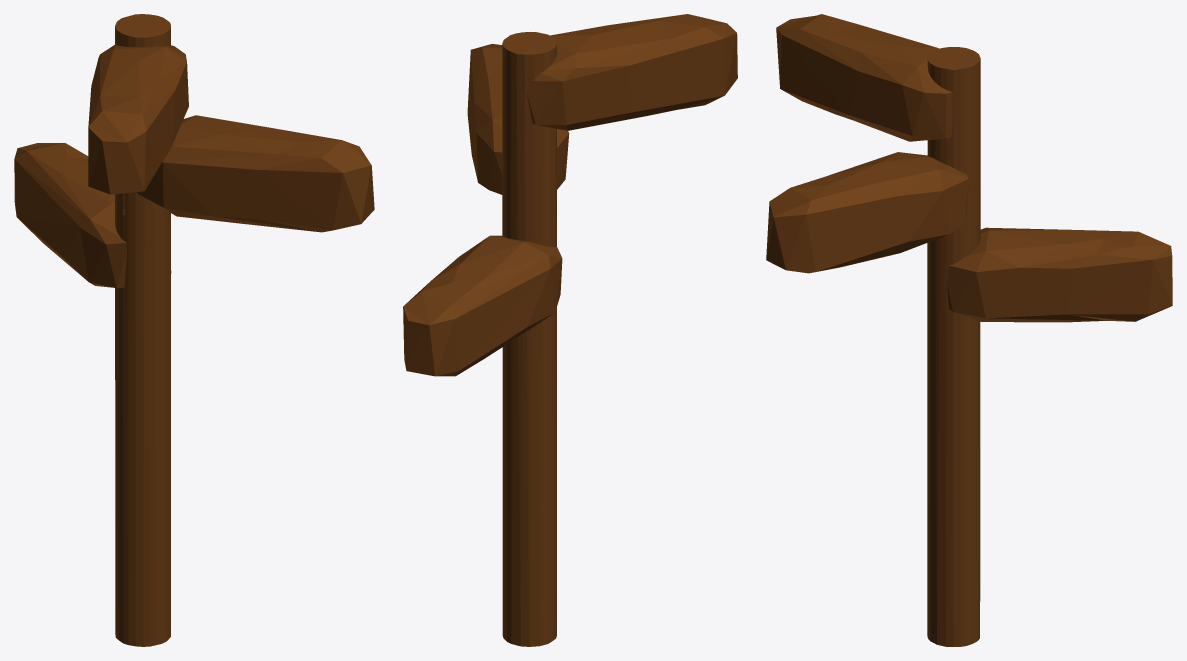
File: wegweiser.obj
The picture shows the model from 3 angles, left to right: view 1: azimuth 30°, elevation 25°; view 2: azimuth 150°, elevation 25°; view 3: azimuth 270°, elevation 25°; orthographic projection. The views are drawn at different scales.
Visible parts, largest first — view 1: 281850_23_05_26_17_10_30_0, 281850_23_05_26_17_10_30_3, 281850_23_05_26_17_10_30_2, 281850_23_05_26_17_10_30_1; view 2: 281850_23_05_26_17_10_30_0, 281850_23_05_26_17_10_30_2, 281850_23_05_26_17_10_30_1, 281850_23_05_26_17_10_30_3; view 3: 281850_23_05_26_17_10_30_0, 281850_23_05_26_17_10_30_1, 281850_23_05_26_17_10_30_3, 281850_23_05_26_17_10_30_2.
Part boxes in pixels (box(x1,y1,x2,y2)): 281850_23_05_26_17_10_30_0: box(115, 14, 170, 646); 281850_23_05_26_17_10_30_3: box(137, 115, 374, 232); 281850_23_05_26_17_10_30_2: box(88, 44, 188, 194); 281850_23_05_26_17_10_30_1: box(14, 143, 171, 287); 281850_23_05_26_17_10_30_0: box(502, 32, 556, 646); 281850_23_05_26_17_10_30_2: box(526, 14, 737, 130); 281850_23_05_26_17_10_30_1: box(403, 235, 562, 376); 281850_23_05_26_17_10_30_3: box(467, 44, 569, 194); 281850_23_05_26_17_10_30_0: box(927, 47, 980, 646); 281850_23_05_26_17_10_30_1: box(947, 227, 1172, 322); 281850_23_05_26_17_10_30_3: box(766, 152, 968, 273); 281850_23_05_26_17_10_30_2: box(776, 14, 952, 141).
Bounding box in the file's own units: 2.23 × 4.8 × 3.06.
Materials: 4 (4 with a texture image).
